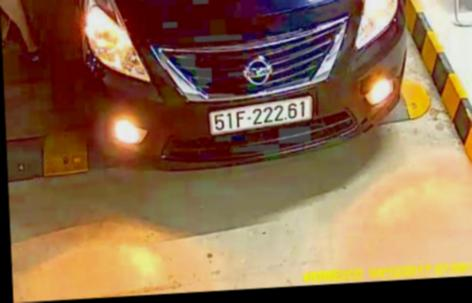License_Plate: (208, 99, 313, 131)
